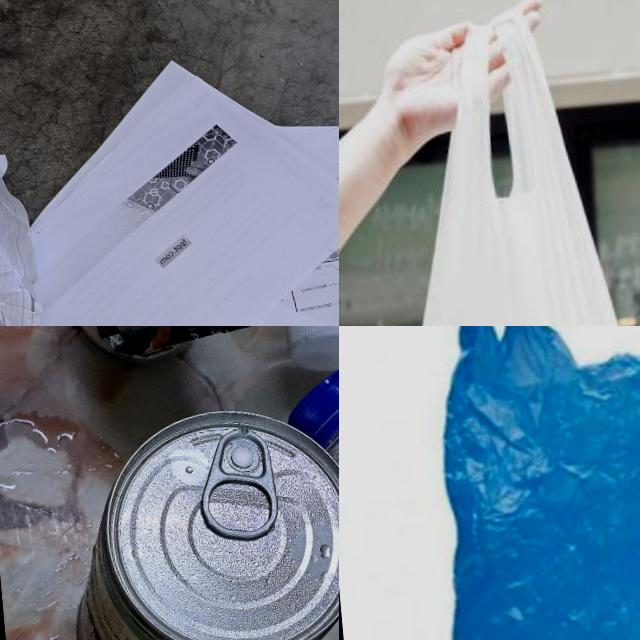aba de lata: (194, 430, 282, 540)
lata: (55, 396, 339, 640), (58, 326, 298, 362)
papel: (0, 39, 339, 326), (0, 123, 44, 326)
sacola plástica: (339, 0, 640, 326), (378, 326, 640, 640)
tampa plástica: (282, 364, 339, 441), (281, 326, 339, 377)
